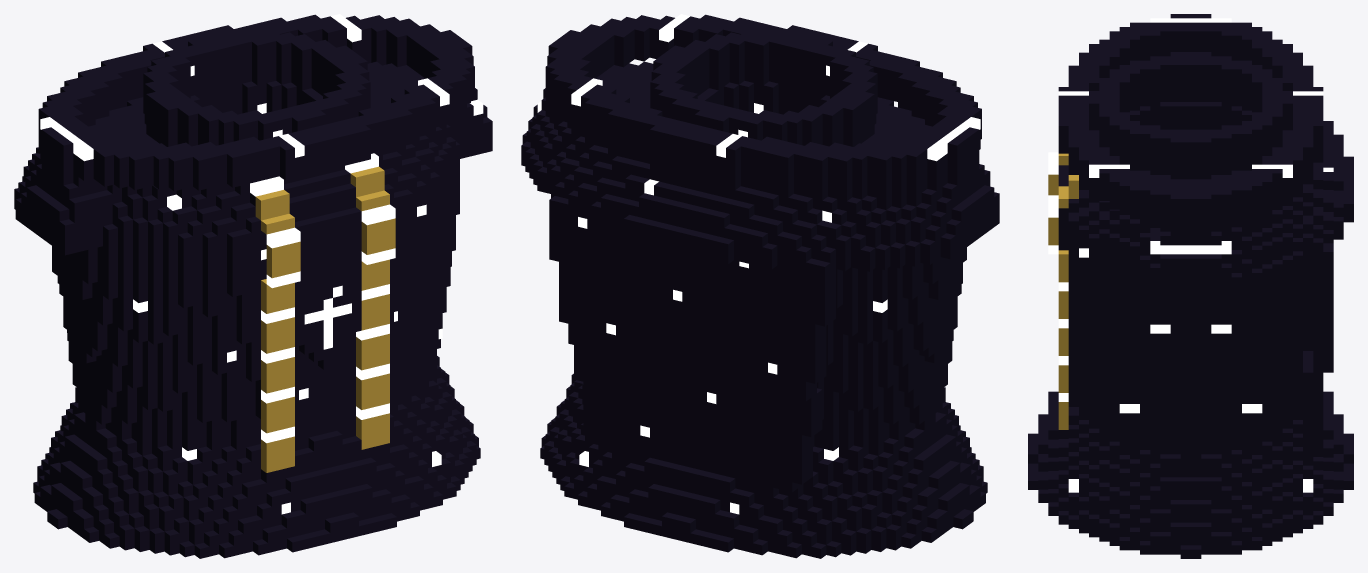
File: mystic_legendary_chest.glb
The picture shows the model from 3 angles, left to right: view 1: azimuth 30°, elevation 25°; view 2: azimuth 150°, elevation 25°; view 3: azimuth 270°, elevation 25°; orthographic projection. The views are drawn at different scales.
Visible parts, largest first — view 1: mystic_legendary_chest; view 2: mystic_legendary_chest; view 3: mystic_legendary_chest.
Part boxes in pixels (bbox=[...]): mystic_legendary_chest: bbox=[14, 14, 492, 558]; mystic_legendary_chest: bbox=[521, 14, 999, 558]; mystic_legendary_chest: bbox=[1028, 14, 1353, 558].
Bounding box in the file's own units: 0.54 × 0.48 × 0.384.
